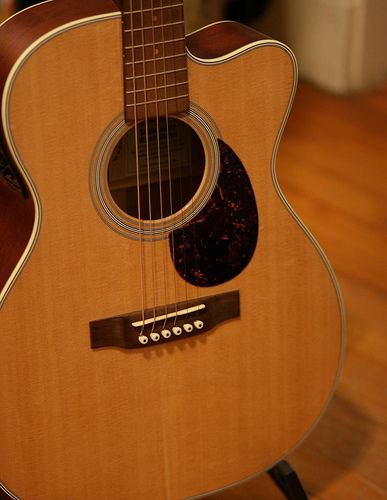guitar: (1, 1, 345, 498)
